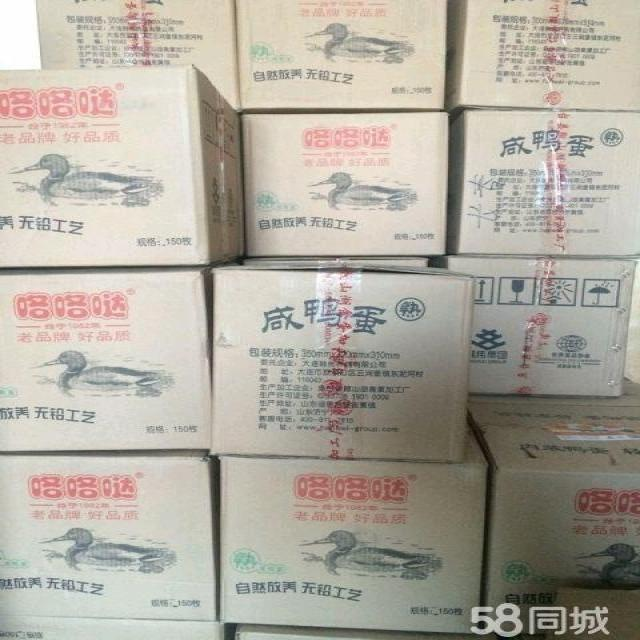box: (216, 422, 489, 636), (211, 264, 476, 461), (0, 66, 245, 266), (468, 400, 640, 638), (0, 266, 209, 454), (0, 448, 219, 619), (241, 111, 449, 256), (447, 112, 639, 255), (445, 256, 636, 394), (233, 0, 448, 110), (33, 0, 237, 112), (451, 0, 640, 109), (0, 617, 224, 639), (464, 378, 639, 404), (236, 627, 472, 638), (247, 256, 429, 267)
